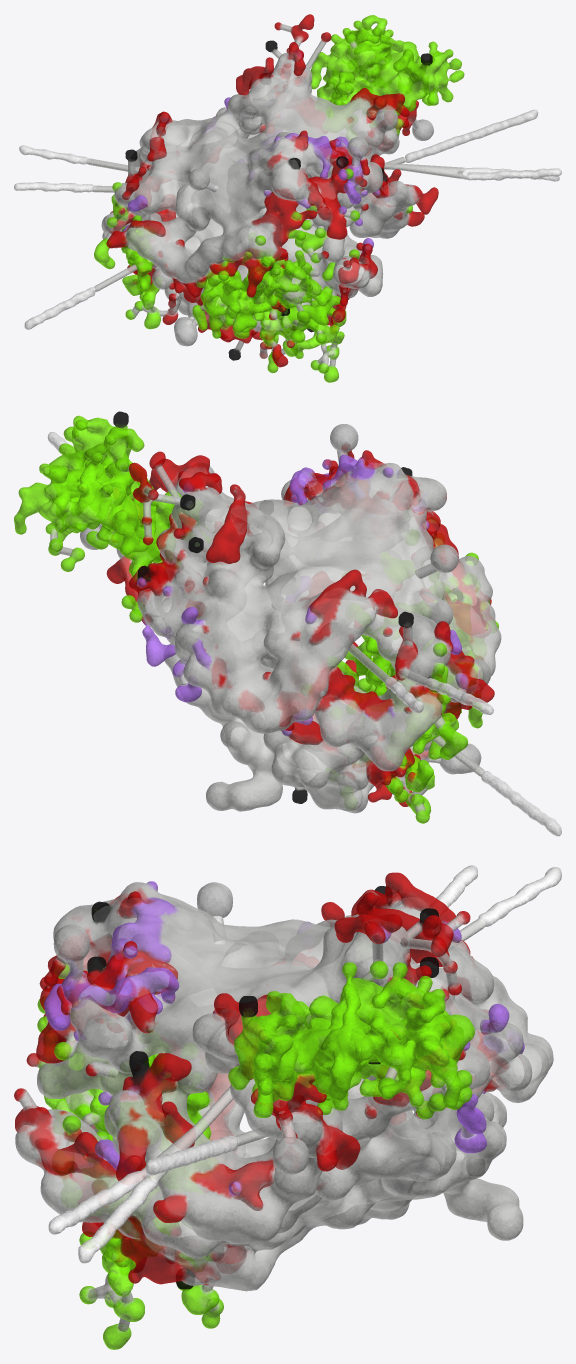
Rendered from Cassiopeia A Supernova.glb.
The picture shows the model from 3 angles, top to bottom: view 1: azimuth 30°, elevation 25°; view 2: azimuth 150°, elevation 25°; view 3: azimuth 270°, elevation 25°; orthographic projection. The views are drawn at different scales.
Visible parts, largest first — view 1: Cassiopeia A Supernova; view 2: Cassiopeia A Supernova; view 3: Cassiopeia A Supernova.
Part boxes in pixels (left/top/right/bottom): Cassiopeia A Supernova: left=14, top=14, right=561, bottom=382; Cassiopeia A Supernova: left=14, top=411, right=561, bottom=836; Cassiopeia A Supernova: left=14, top=865, right=561, bottom=1349.
Bounding box in the file's own units: 18.91 × 11.39 × 11.37.
1 material, 1 textured.
